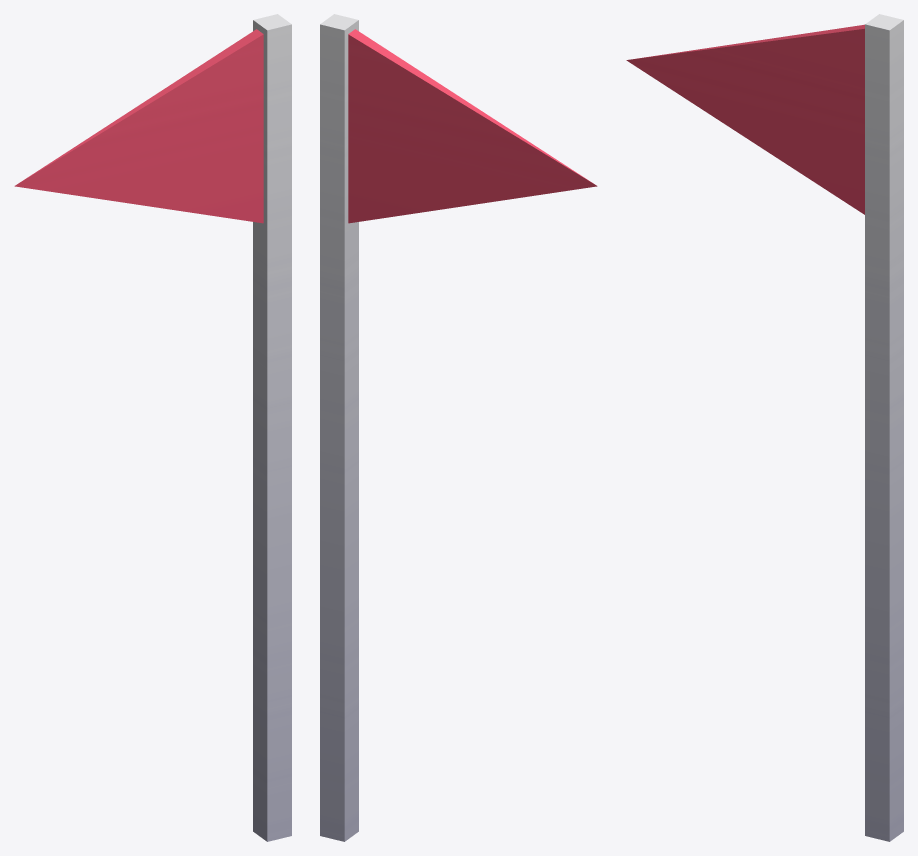
Rendered from flag-red.fbx.
3 renders of one model, left to right at view 1: azimuth 30°, elevation 25°; view 2: azimuth 150°, elevation 25°; view 3: azimuth 330°, elevation 25°, orthographic.
Visible parts, largest first — view 1: flag_red; view 2: flag_red; view 3: flag_red.
Boxes of the visible parts, <box> form: flag_red: <box>14,14,291,841</box>; flag_red: <box>320,14,597,841</box>; flag_red: <box>626,14,903,841</box>.
Bounding box in the file's own units: 36.66 × 105 × 3.33.
